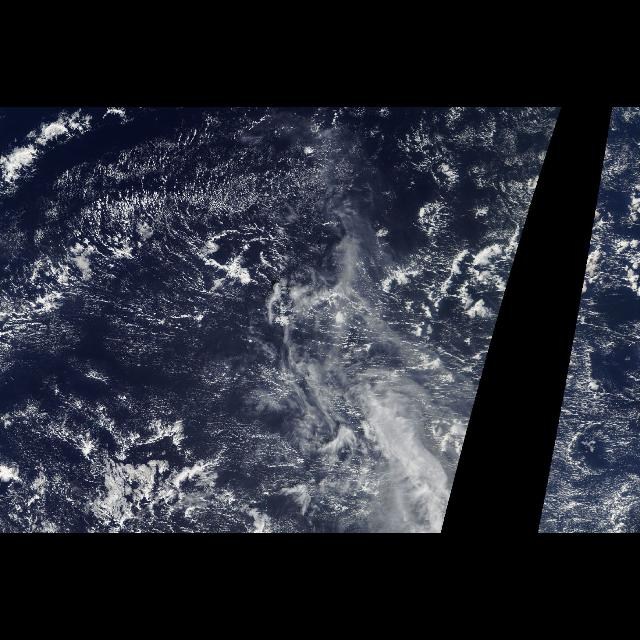Gravel: (74, 392, 262, 526), (377, 228, 525, 324), (576, 228, 638, 324)
Sugar: (1, 135, 499, 533), (536, 317, 640, 533)
